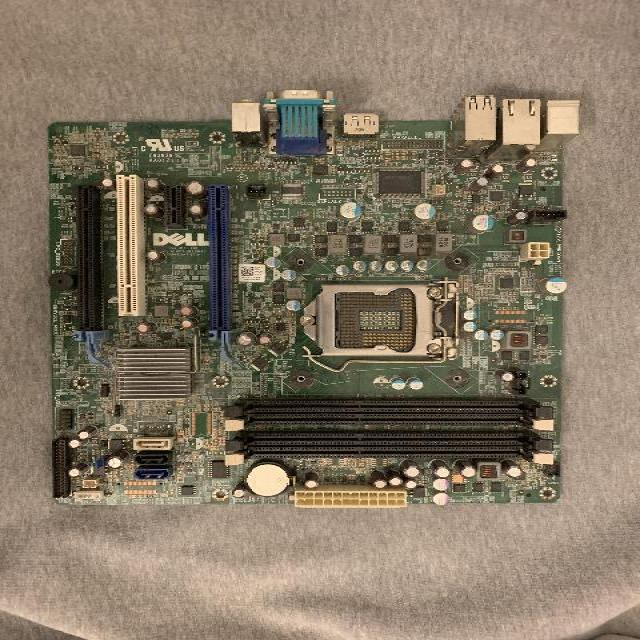Mainboard: (48, 90, 580, 508)
